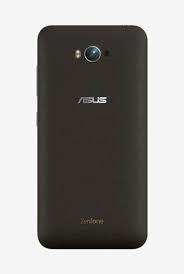asus: (32, 20, 149, 250)
